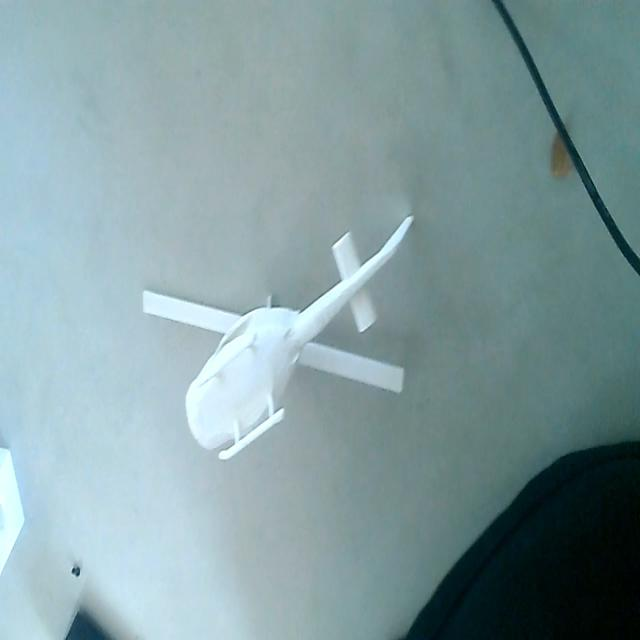Helicopter: (136, 212, 417, 463)
